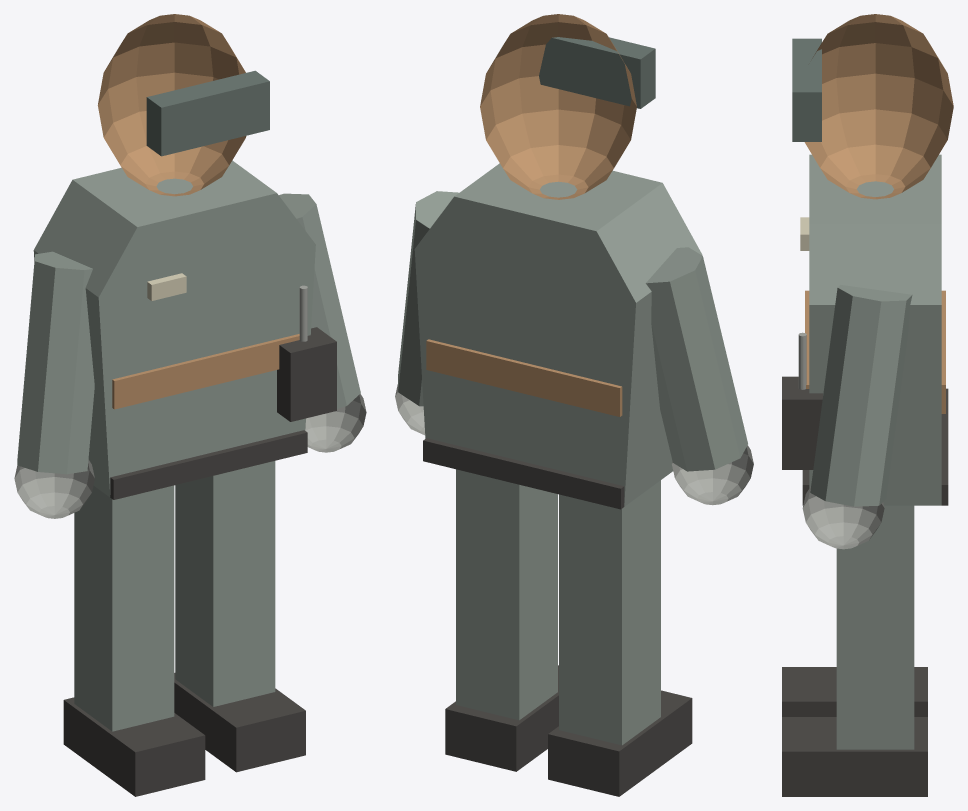
File: signal-house-static-relay-caretaker__213.glb
3 views of the same model, side by side, from view 1: azimuth 30°, elevation 25°; view 2: azimuth 150°, elevation 25°; view 3: azimuth 270°, elevation 25° (orthographic).
Visible parts, largest first — view 1: shell, dark, accent, glass, metal, paper; view 2: shell, accent, dark, glass, metal; view 3: shell, accent, dark, metal, glass, paper.
Part boxes in pixels (left/top/right/bottom): shell: left=17, top=160, right=360, bottom=731; dark: left=63, top=327, right=336, bottom=796; accent: left=97, top=14, right=299, bottom=409; glass: left=146, top=70, right=269, bottom=156; metal: left=14, top=285, right=366, bottom=518; paper: left=147, top=273, right=186, bottom=300; shell: left=398, top=163, right=747, bottom=745; accent: left=426, top=14, right=636, bottom=416; dark: left=423, top=438, right=692, bottom=796; glass: left=539, top=37, right=655, bottom=108; metal: left=395, top=384, right=753, bottom=505; shell: left=809, top=154, right=941, bottom=749; accent: left=804, top=14, right=953, bottom=413; dark: left=782, top=376, right=948, bottom=796; metal: left=798, top=332, right=884, bottom=549; glass: left=792, top=38, right=821, bottom=141; paper: left=800, top=217, right=809, bottom=250.
Bounding box in the file's own units: 0.88 × 1.78 × 0.377.
